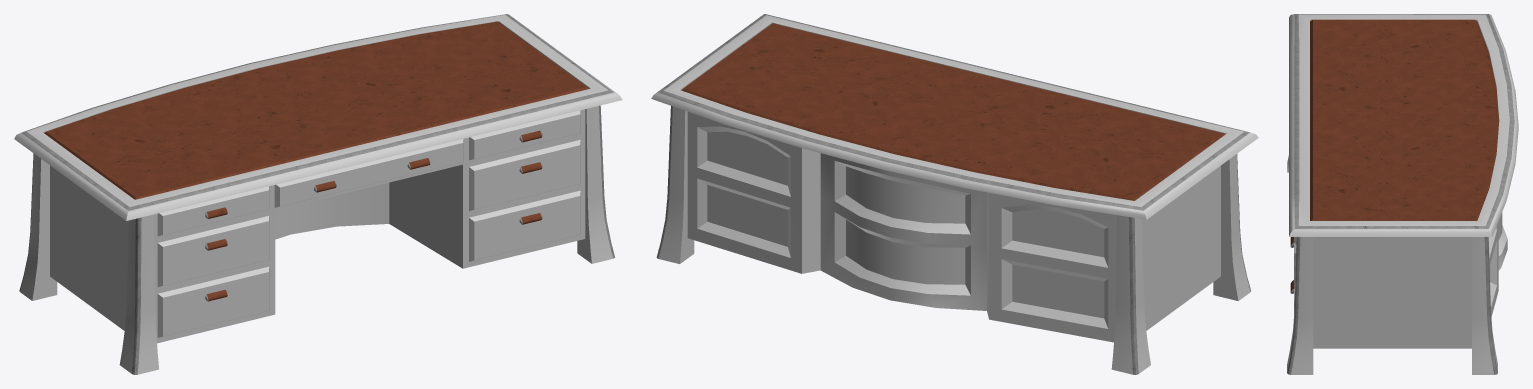
The model's file is Desk.fbx.
3 renders of one model, left to right at view 1: azimuth 30°, elevation 25°; view 2: azimuth 150°, elevation 25°; view 3: azimuth 270°, elevation 25°, orthographic. The views are drawn at different scales.
Visible parts, largest first — view 1: Desk; view 2: Desk; view 3: Desk.
Boxes of the visible parts, x1,y1,x2,y2 form: Desk: (14,14,622,374); Desk: (651,14,1258,374); Desk: (1287,14,1518,374).
Bounding box in the file's own units: 3.33 × 1.05 × 1.48.
